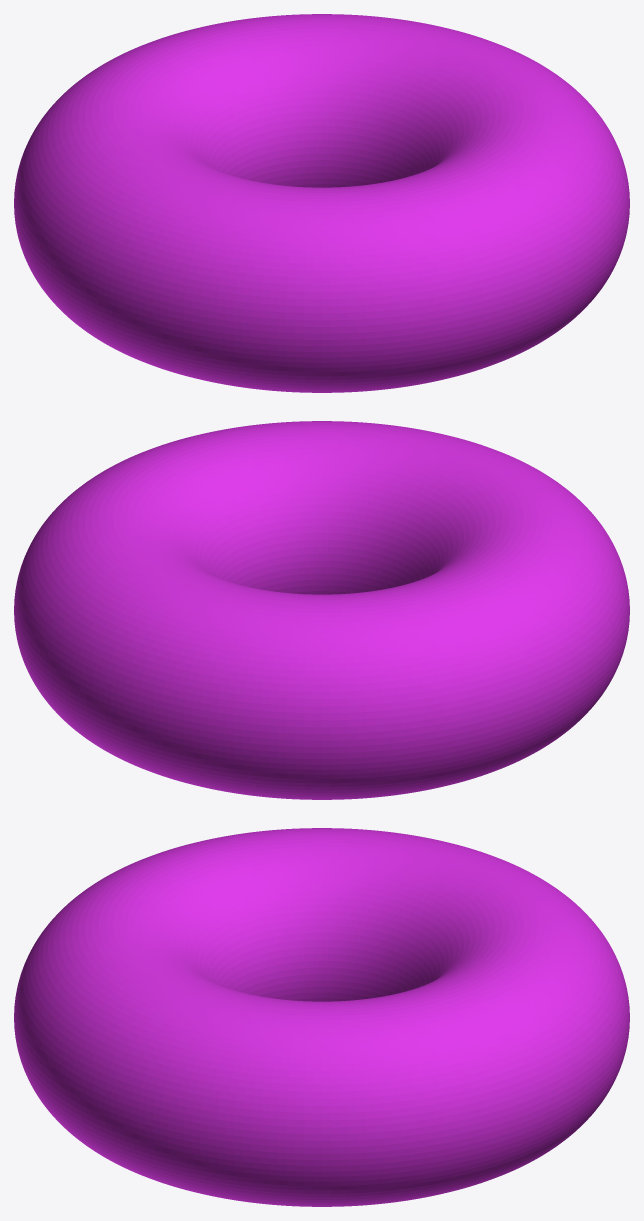
The picture shows the model from 3 angles, top to bottom: view 1: azimuth 30°, elevation 25°; view 2: azimuth 150°, elevation 25°; view 3: azimuth 270°, elevation 25°; orthographic projection.
Visible parts, largest first — view 1: Torus.004; view 2: Torus.004; view 3: Torus.004.
Boxes of the visible parts, x1,y1,x2,y2 form: Torus.004: (14,14,629,392); Torus.004: (14,421,629,799); Torus.004: (14,828,629,1206).
Bounding box in the file's own units: 2.4 × 0.7995 × 2.4.
